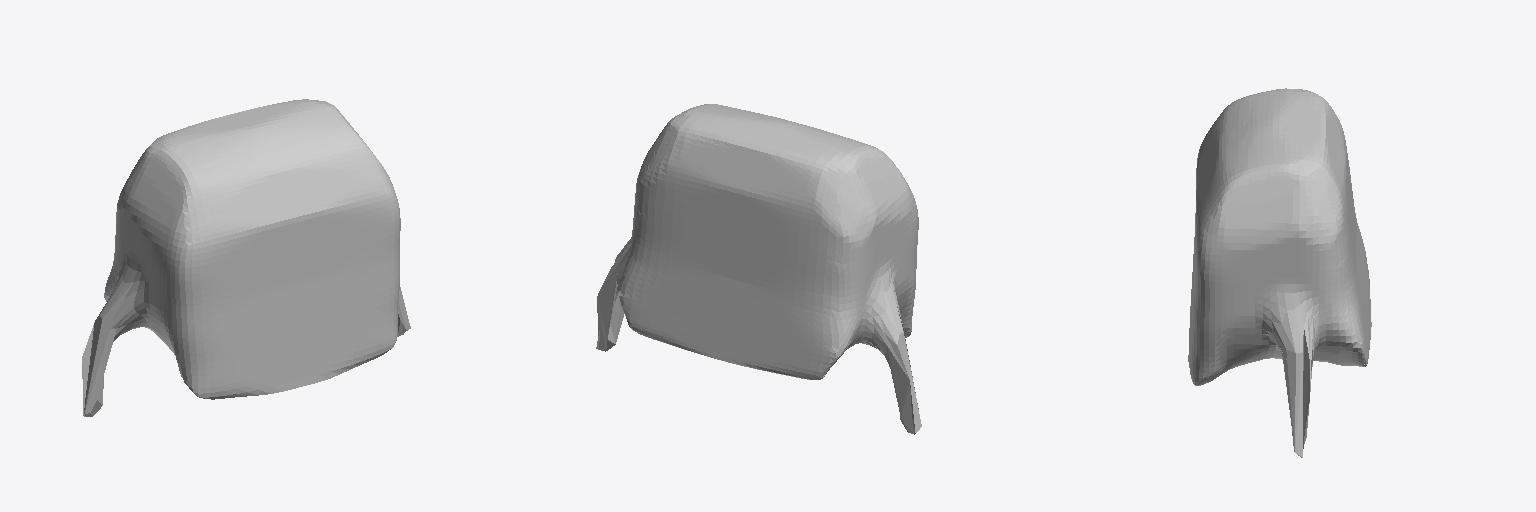
Rendered from vertabrae1.obj.
The picture shows the model from 3 angles: view 1: azimuth 30°, elevation 25°; view 2: azimuth 150°, elevation 25°; view 3: azimuth 270°, elevation 25°; orthographic projection.
Visible parts, largest first — view 1: Cube.001_Cube.006; view 2: Cube.001_Cube.006; view 3: Cube.001_Cube.006.
Boxes of the visible parts, x1=… form: Cube.001_Cube.006: x1=82, y1=99, x2=410, y2=416; Cube.001_Cube.006: x1=596, y1=104, x2=921, y2=434; Cube.001_Cube.006: x1=1188, y1=88, x2=1371, y2=457.
Bounding box in the file's own units: 0.1307 × 0.1011 × 0.0637.